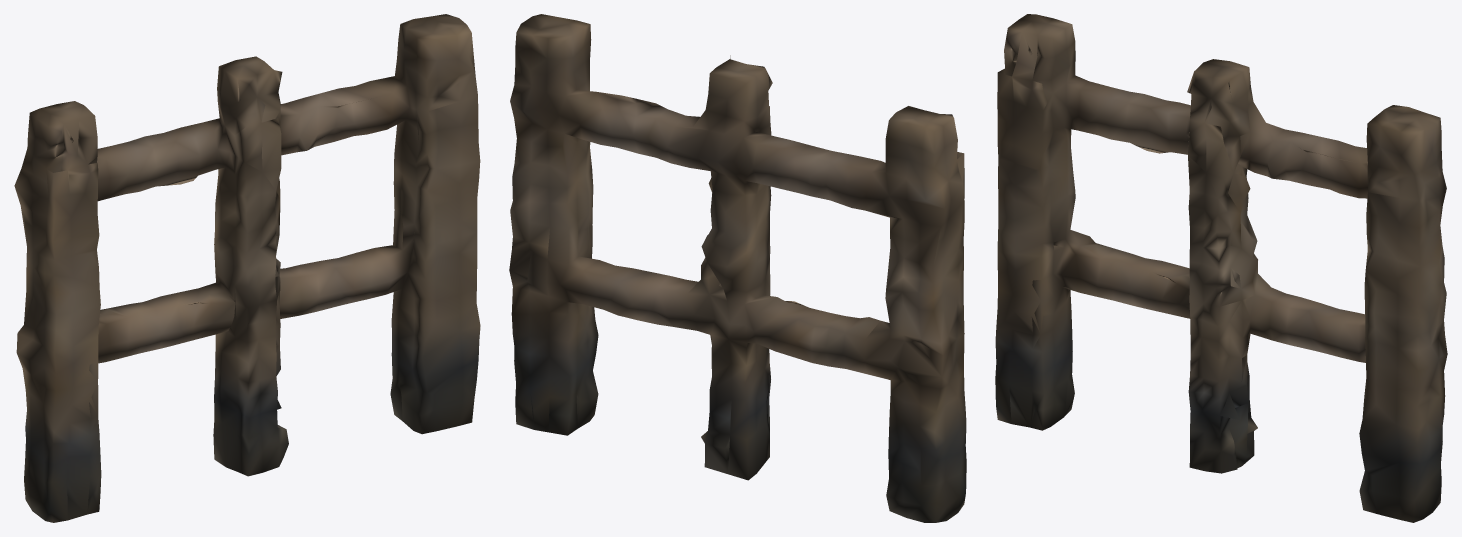
File: balkenzaun.glb
3 views of the same model, side by side, from view 1: azimuth 30°, elevation 25°; view 2: azimuth 150°, elevation 25°; view 3: azimuth 330°, elevation 25° (orthographic).
Size of the model in its own units: 0.9511 by 0.8216 by 0.1311.
